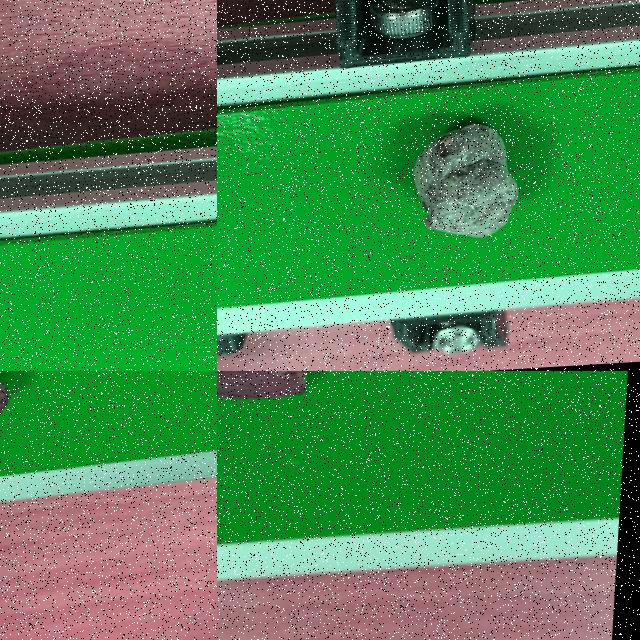Agglomerated_cocoabeans: (366, 87, 603, 262)
Fine_cocoabeans: (0, 371, 110, 488)
Flat_cocoabeans: (217, 371, 371, 451)
